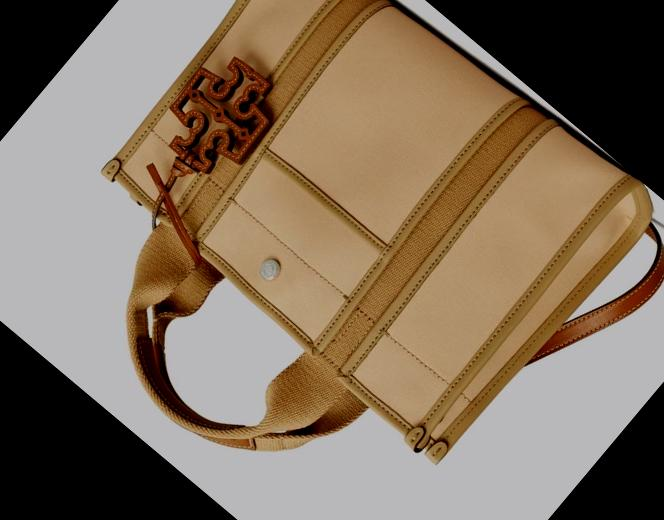TORY-BURCH: (148, 40, 292, 188)
